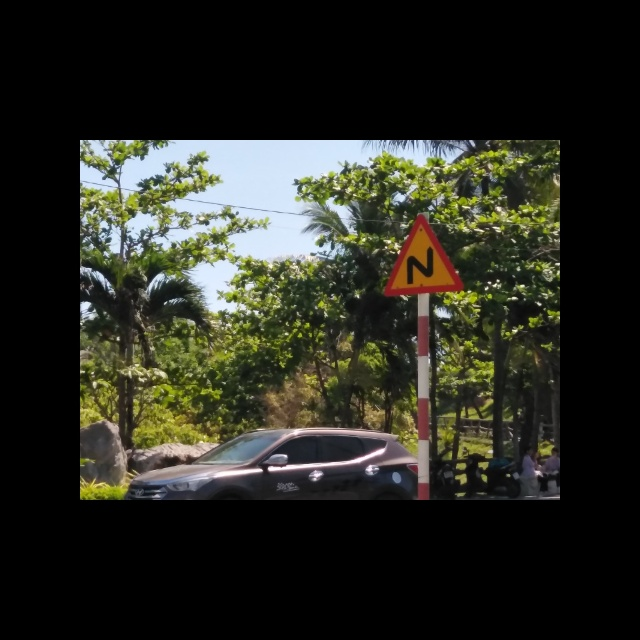Ngoặt nguy hiểm liên tiếp bên phải: (383, 212, 464, 298)
